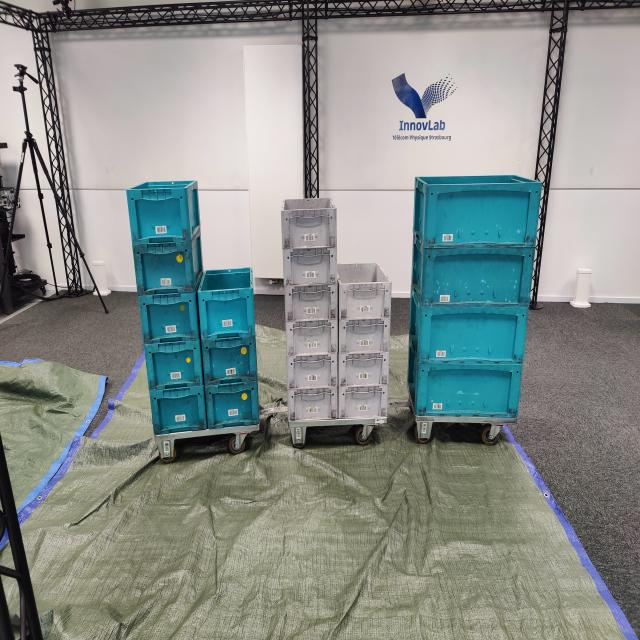Box8G: (337, 262, 395, 318), (280, 195, 339, 250), (284, 286, 340, 323), (282, 249, 337, 286), (338, 318, 392, 354), (284, 321, 338, 356), (286, 354, 339, 388), (337, 356, 391, 389), (339, 388, 390, 421), (287, 387, 336, 421)
BoxB4: (406, 290, 530, 366), (406, 345, 524, 424), (414, 175, 541, 248), (410, 243, 536, 307)
BoxB8: (125, 180, 207, 242), (129, 230, 206, 296), (200, 266, 262, 342), (140, 288, 199, 348), (143, 341, 204, 389), (202, 341, 260, 390), (153, 387, 206, 438), (206, 386, 265, 431)
